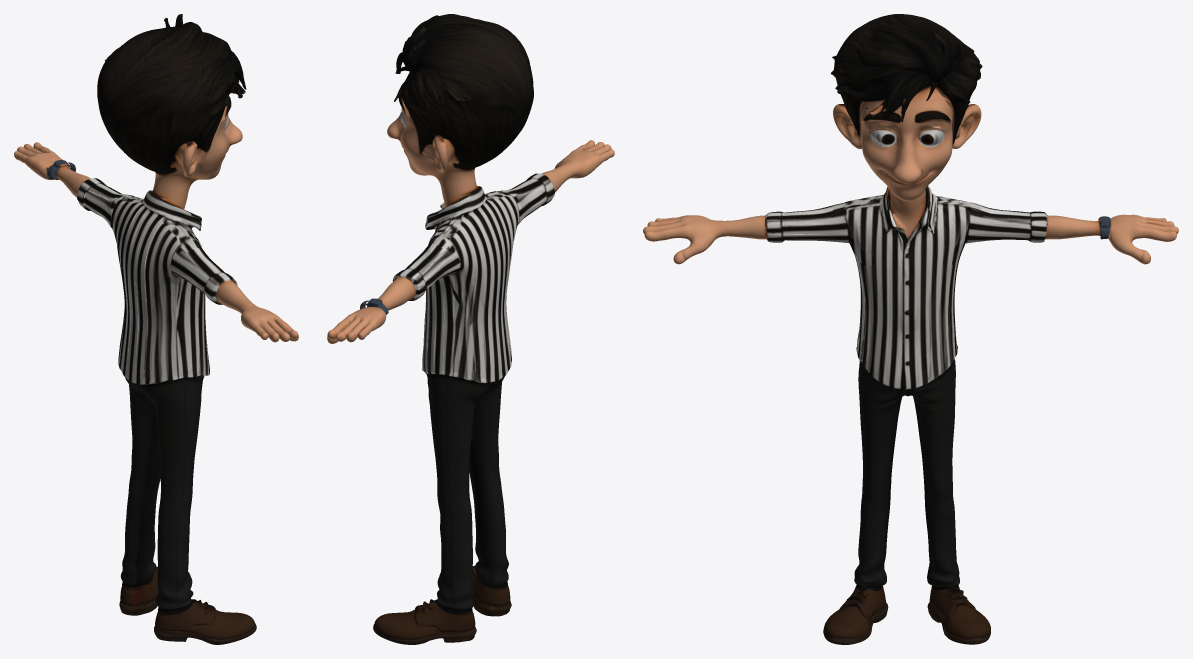
The model's file is Varun3d.glb.
The picture shows the model from 3 angles, left to right: view 1: azimuth 30°, elevation 25°; view 2: azimuth 150°, elevation 25°; view 3: azimuth 270°, elevation 25°; orthographic projection. The views are drawn at different scales.
Visible parts, largest first — view 1: tripo_node_3163b37b-8c38-4c4b-959c-954fed6bb7da; view 2: tripo_node_3163b37b-8c38-4c4b-959c-954fed6bb7da; view 3: tripo_node_3163b37b-8c38-4c4b-959c-954fed6bb7da.
Part boxes in pixels (<box>): tripo_node_3163b37b-8c38-4c4b-959c-954fed6bb7da: <box>14,14,298,644</box>; tripo_node_3163b37b-8c38-4c4b-959c-954fed6bb7da: <box>327,14,614,644</box>; tripo_node_3163b37b-8c38-4c4b-959c-954fed6bb7da: <box>643,14,1178,644</box>.
Size of the model in its own units: 0.2423 by 1 by 0.8047.
Materials: 1 (1 with a texture image).
